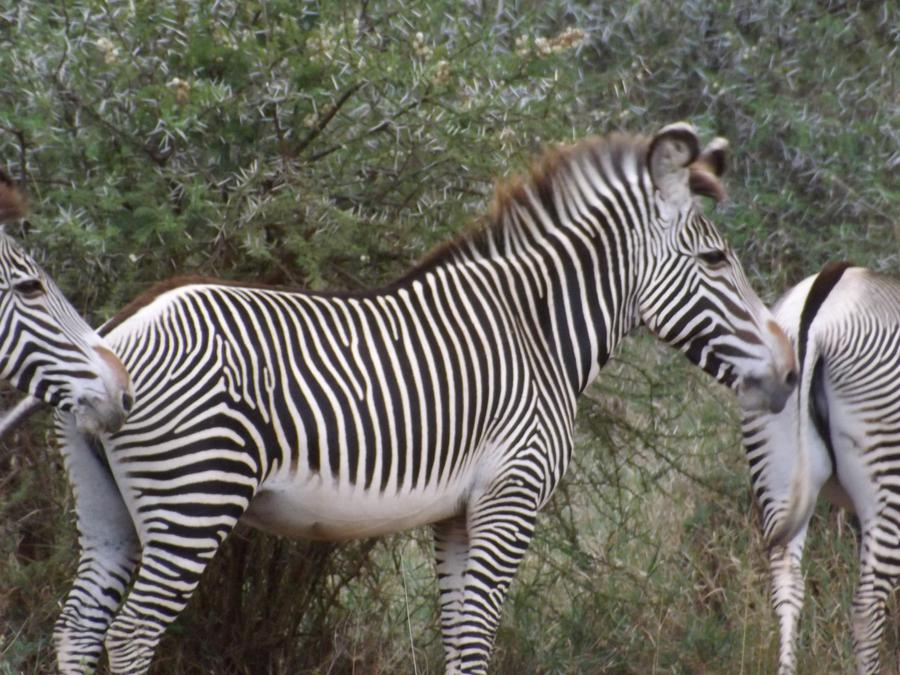zebra_grevys: (90, 246, 536, 533)
